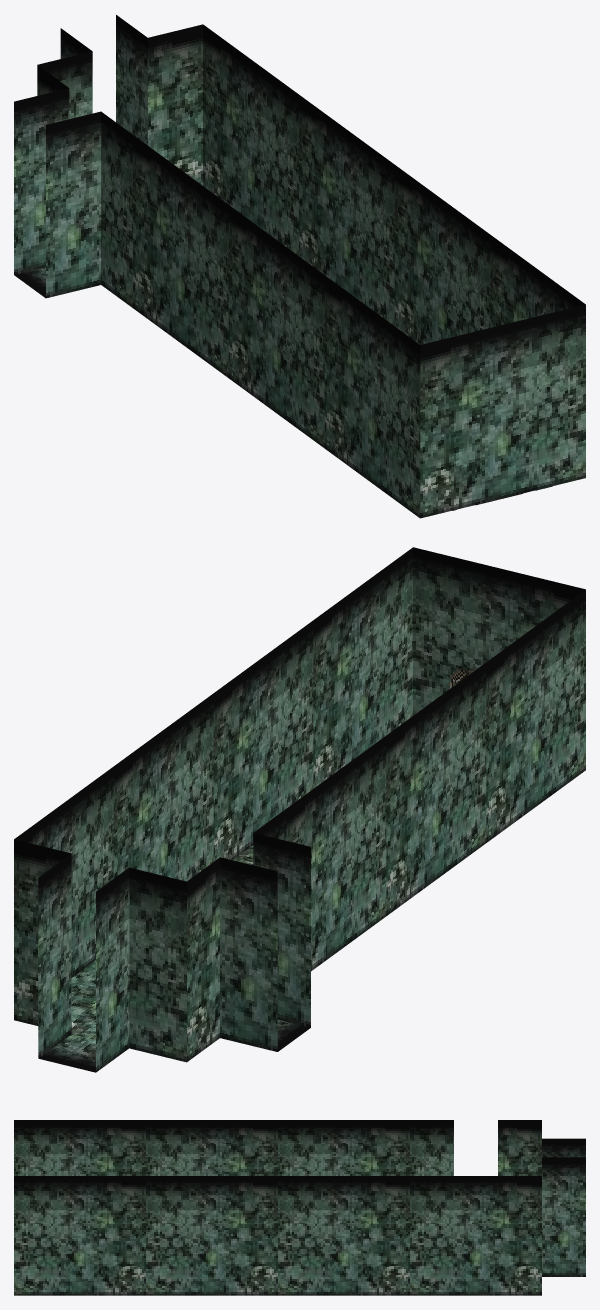
The model's file is Sala1.fbx.
3 views of the same model, one above another, from view 1: azimuth 30°, elevation 25°; view 2: azimuth 150°, elevation 25°; view 3: azimuth 270°, elevation 25° (orthographic). The views are drawn at different scales.
Visible parts, largest first — view 1: wall; view 2: wall, polySurface3, polySurface1; view 3: wall.
Boxes of the visible parts, <box> form: wall: <box>14,15,585,518</box>; wall: <box>14,547,585,1072</box>; polySurface3: <box>71,845,253,1040</box>; polySurface1: <box>39,1034,95,1072</box>; wall: <box>14,1120,585,1295</box>.
Size of the model in its own units: 200 by 151 by 650.
